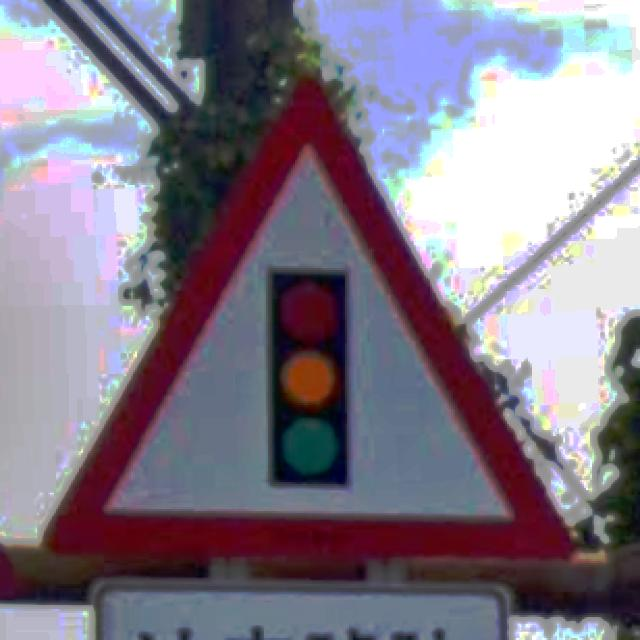signalahead: (43, 78, 575, 560)
